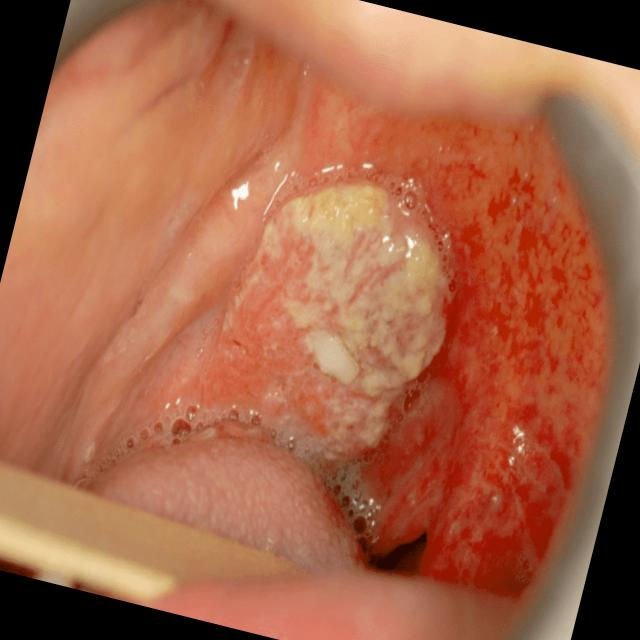Cancer: (137, 121, 485, 533), (400, 170, 630, 598)
